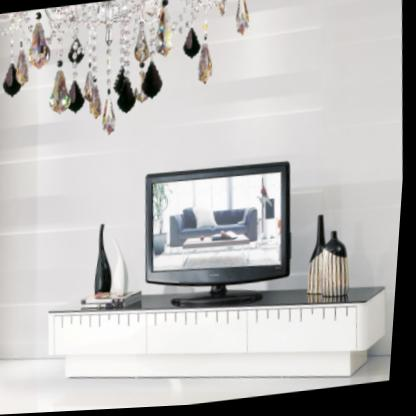Ceramic floor: (0, 361, 396, 415)
TV stand: (52, 291, 392, 382)
